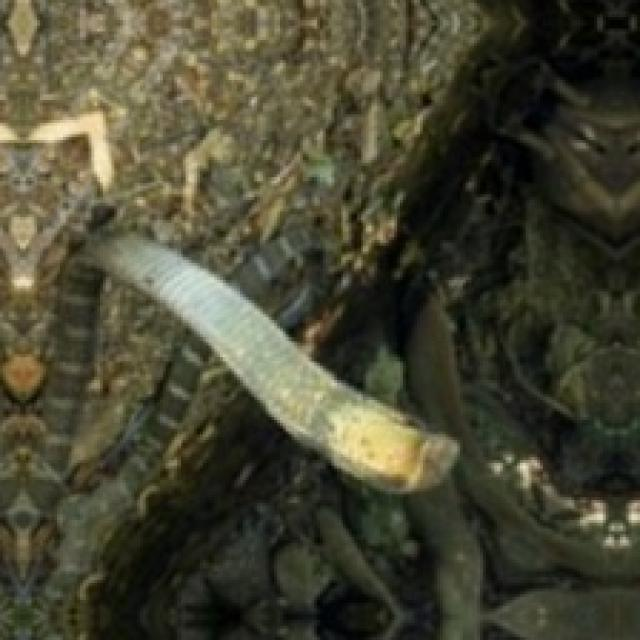king cobra: (94, 234, 457, 491)
